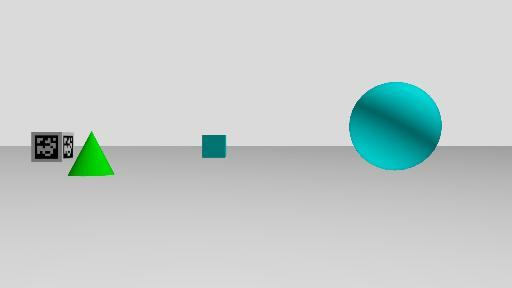green_cone: (67, 131, 115, 177)
